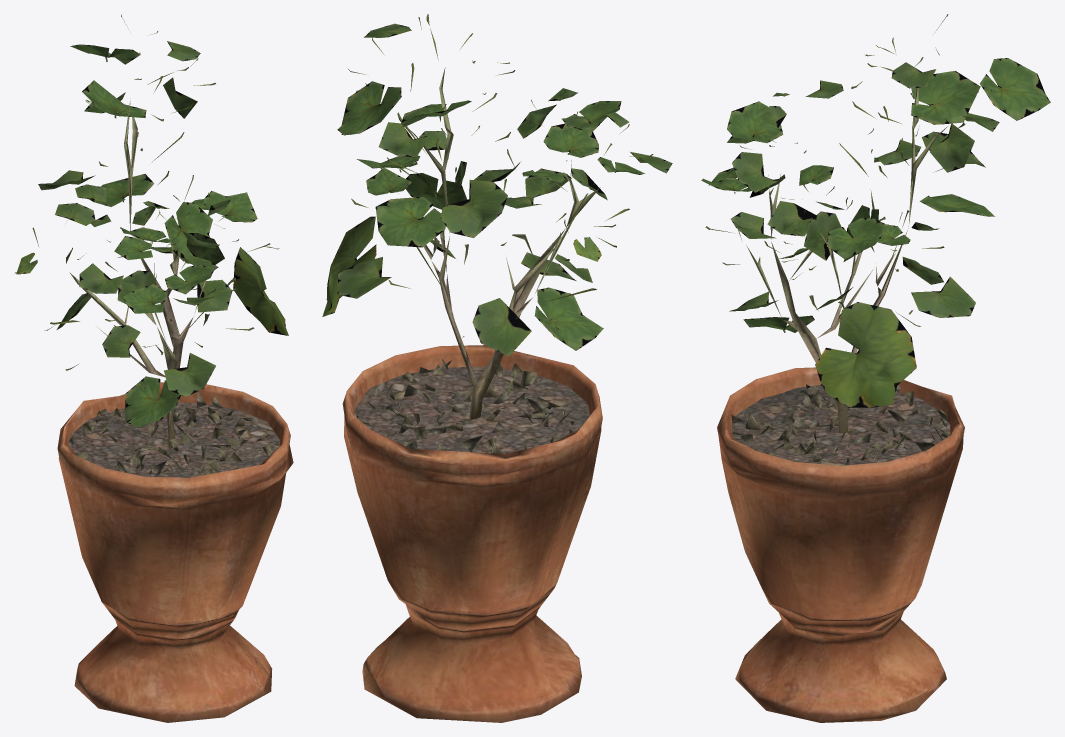
The picture shows the model from 3 angles, left to right: view 1: azimuth 30°, elevation 25°; view 2: azimuth 150°, elevation 25°; view 3: azimuth 270°, elevation 25°; orthographic projection. The views are drawn at different scales.
Parts seen in each view (by area): view 1: potted_plant_01_pot, potted_plant_01_leaves, potted_plant_01_pebbles, potted_plant_01_stem; view 2: potted_plant_01_pot, potted_plant_01_leaves, potted_plant_01_pebbles, potted_plant_01_stem; view 3: potted_plant_01_pot, potted_plant_01_leaves, potted_plant_01_pebbles, potted_plant_01_stem.
Part boxes in pixels (box(x1,y1,x2,y2)): potted_plant_01_pot: box(57, 382, 293, 722); potted_plant_01_leaves: box(14, 14, 288, 427); potted_plant_01_pebbles: box(68, 391, 280, 477); potted_plant_01_stem: box(69, 98, 205, 448); potted_plant_01_pot: box(342, 345, 602, 722); potted_plant_01_leaves: box(322, 14, 672, 392); potted_plant_01_pebbles: box(354, 358, 589, 454); potted_plant_01_stem: box(406, 67, 600, 419); potted_plant_01_pot: box(717, 367, 964, 722); potted_plant_01_leaves: box(701, 14, 1050, 407); potted_plant_01_pebbles: box(731, 384, 950, 465); potted_plant_01_stem: box(746, 87, 947, 433).
Bounding box in the file's own units: 0.5766 × 1.33 × 0.636.
2 materials, 2 textured.
